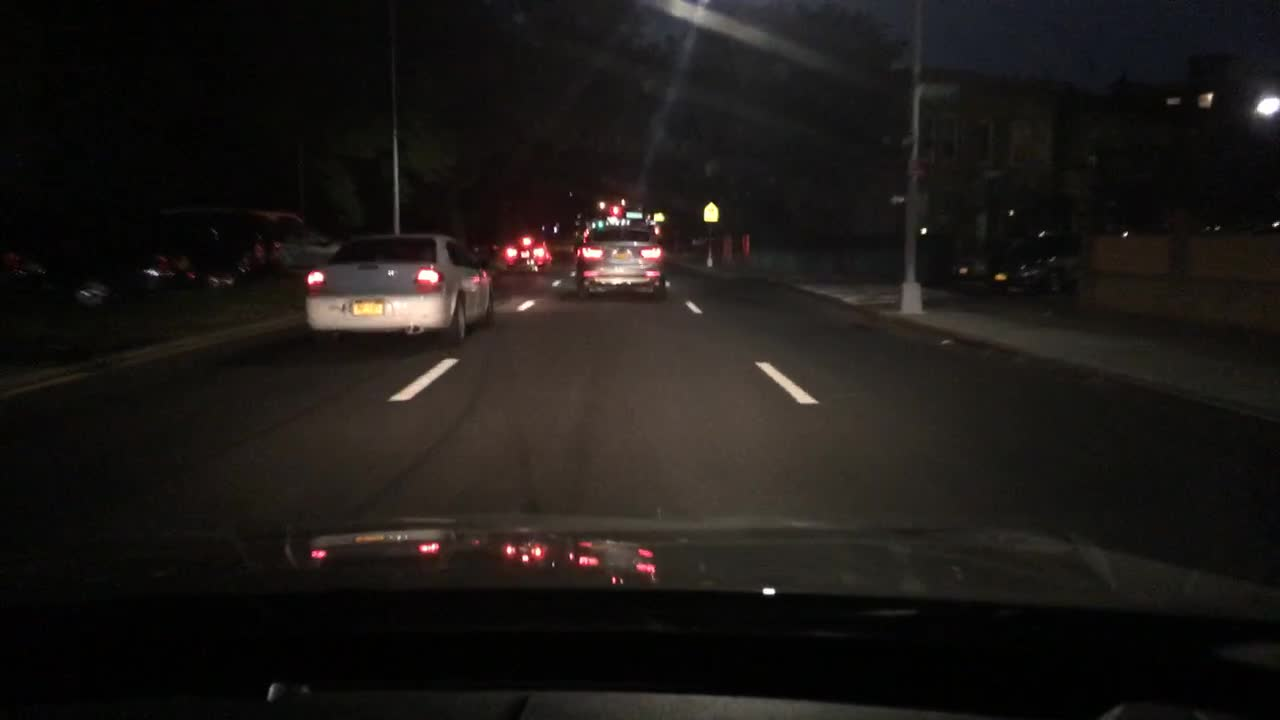car: (303, 229, 496, 347), (149, 205, 341, 261), (0, 246, 115, 312), (574, 223, 666, 298), (958, 235, 1077, 289), (116, 260, 251, 287), (499, 234, 554, 272)
traffic light: (610, 198, 623, 217)
traffic sign: (702, 200, 719, 221)
